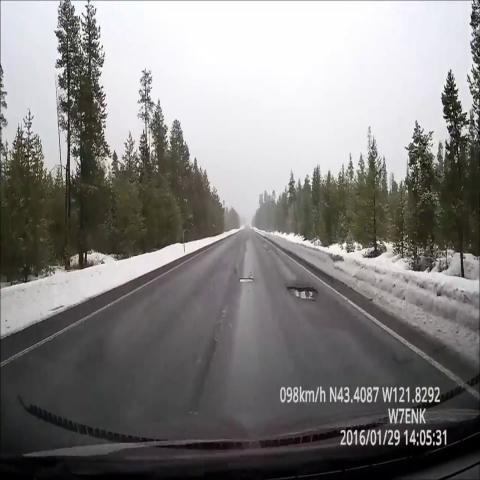pothole: (285, 275, 322, 308), (233, 265, 256, 291)
